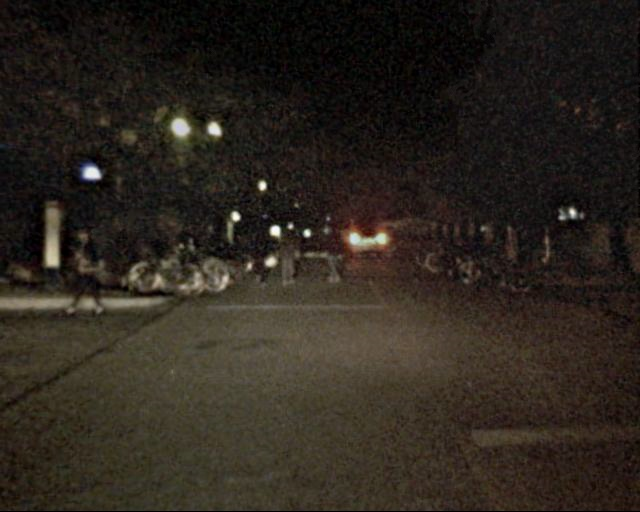person: (68, 216, 113, 318), (245, 217, 271, 285), (320, 218, 344, 291), (278, 222, 303, 291)
